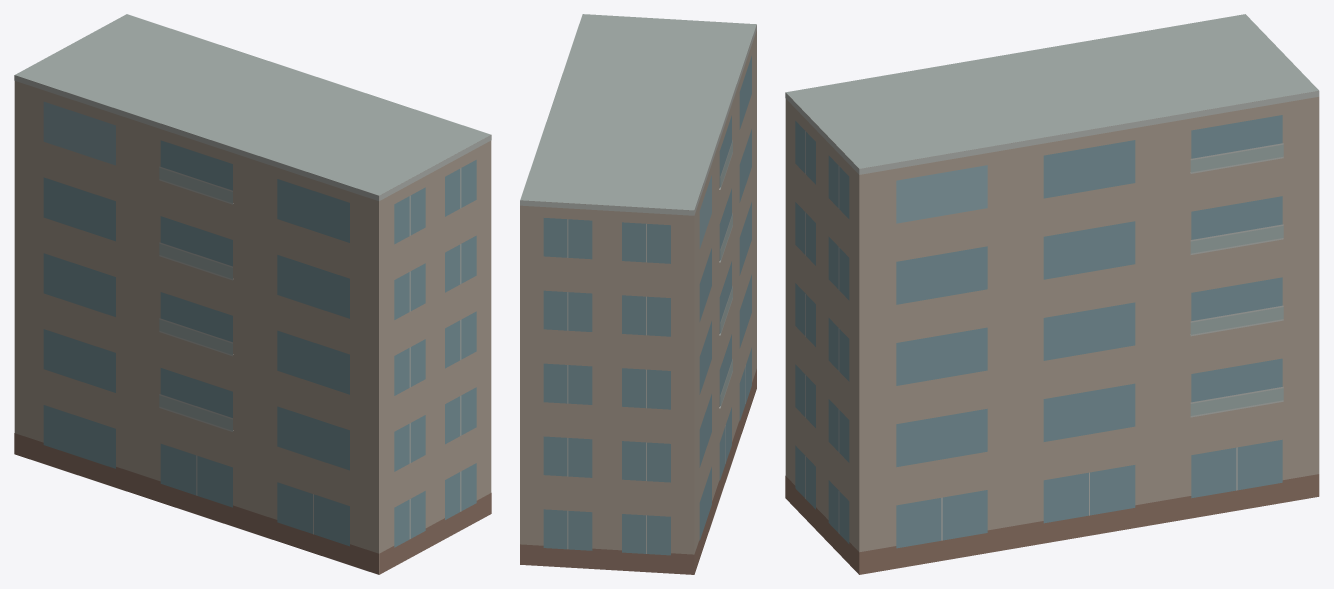
File: survey-upis-32614374.glb
The picture shows the model from 3 angles, left to right: view 1: azimuth 30°, elevation 25°; view 2: azimuth 150°, elevation 25°; view 3: azimuth 270°, elevation 25°; orthographic projection. The views are drawn at different scales.
Parts seen in each view (by area): view 1: survey-upis-32614374.tmp; view 2: survey-upis-32614374.tmp; view 3: survey-upis-32614374.tmp.
Part boxes in pixels (<box>): survey-upis-32614374.tmp: <box>14,14,491,574</box>; survey-upis-32614374.tmp: <box>520,14,756,574</box>; survey-upis-32614374.tmp: <box>785,14,1319,574</box>.
Bounding box in the file's own units: 13.55 × 16.55 × 19.73.
